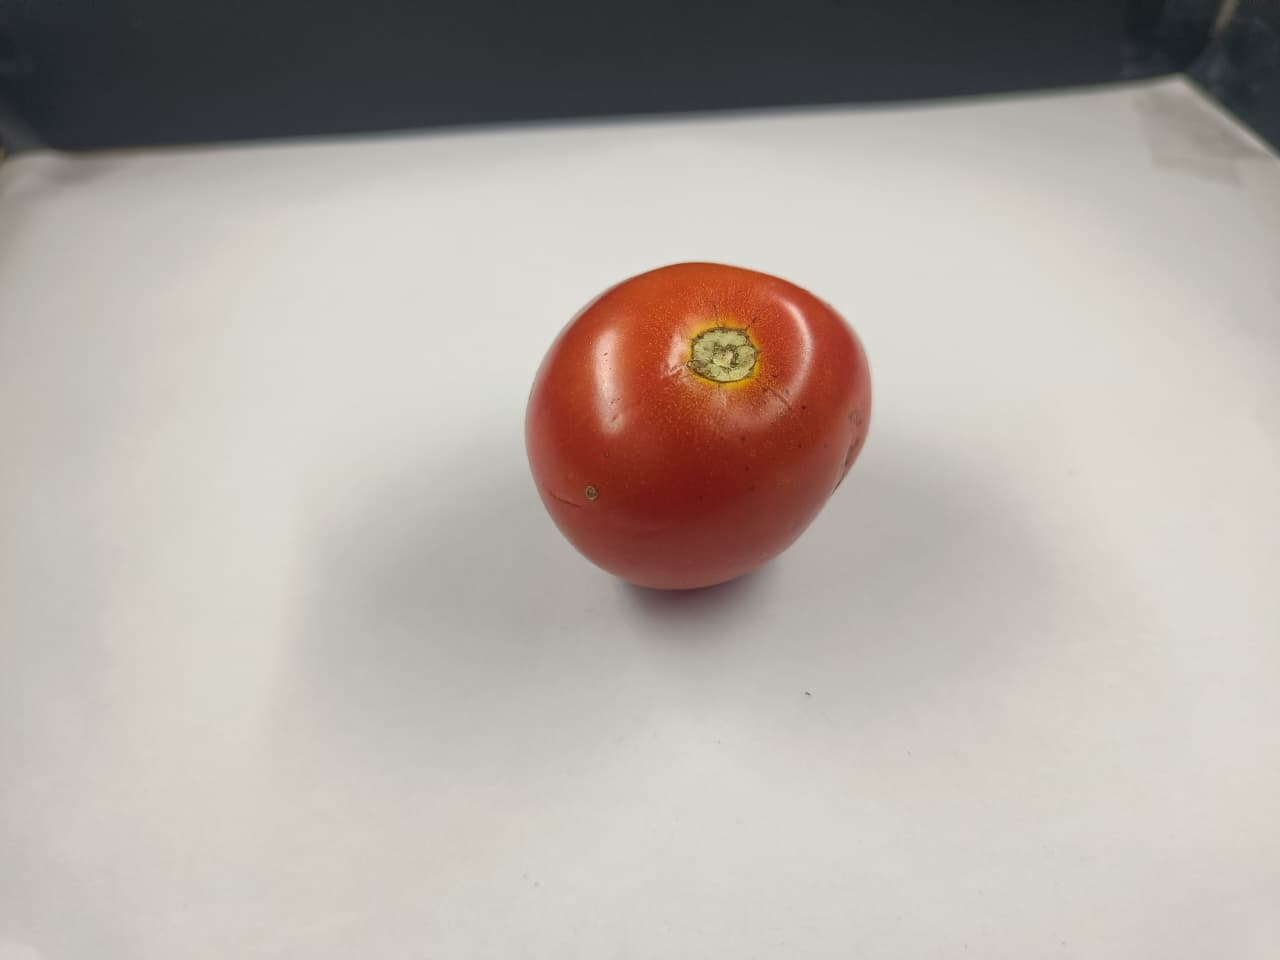ripe: (492, 253, 879, 608)
